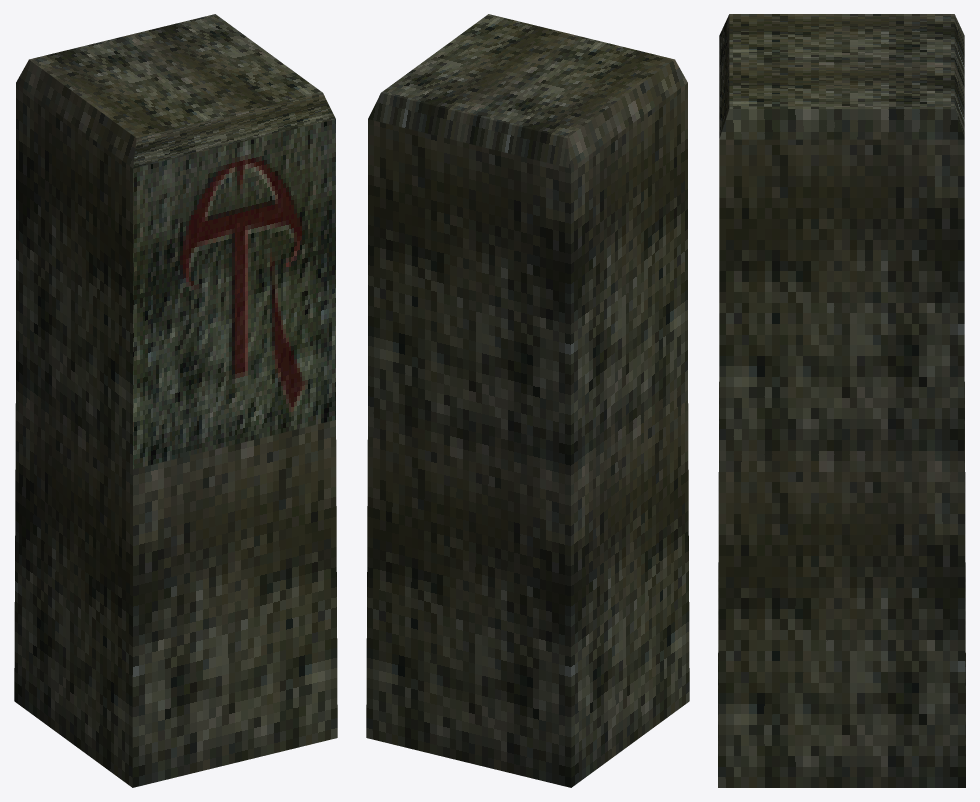
The model's file is Monu1.fbx.
3 renders of one model, left to right at view 1: azimuth 30°, elevation 25°; view 2: azimuth 150°, elevation 25°; view 3: azimuth 270°, elevation 25°, orthographic. The views are drawn at different scales.
Parts seen in each view (by area): view 1: MONU1; view 2: MONU1; view 3: MONU1.
Boxes of the visible parts, left/top/right/bottom form: MONU1: left=14, top=14, right=337, bottom=787; MONU1: left=366, top=14, right=689, bottom=787; MONU1: left=718, top=14, right=965, bottom=787.
Bounding box in the file's own units: 15 × 45 × 15.
